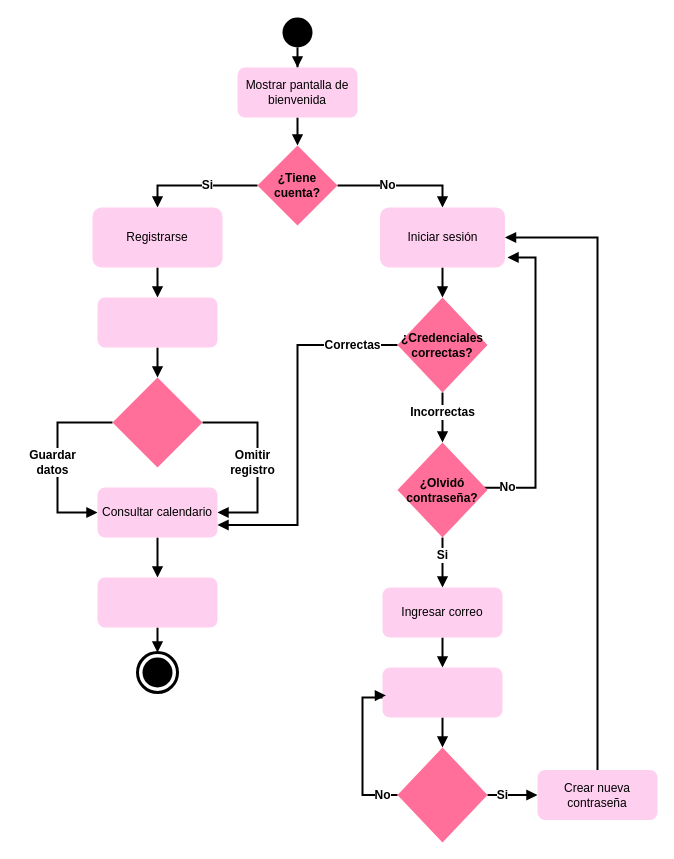
The diagram is 674 pixels wide and 859 high, and some of its shapes have lost their labels. Here are the shapes that lost their labels. From the top down, the centre of each, then its label:
(157,322): Registrar datos del ciclo
(157,422): ¿Desea registrar datos ahora?
(157,602): Editar datos del ciclo
(442,692): Ingresar código de verificadión
(442,794): ¿Código válido?
